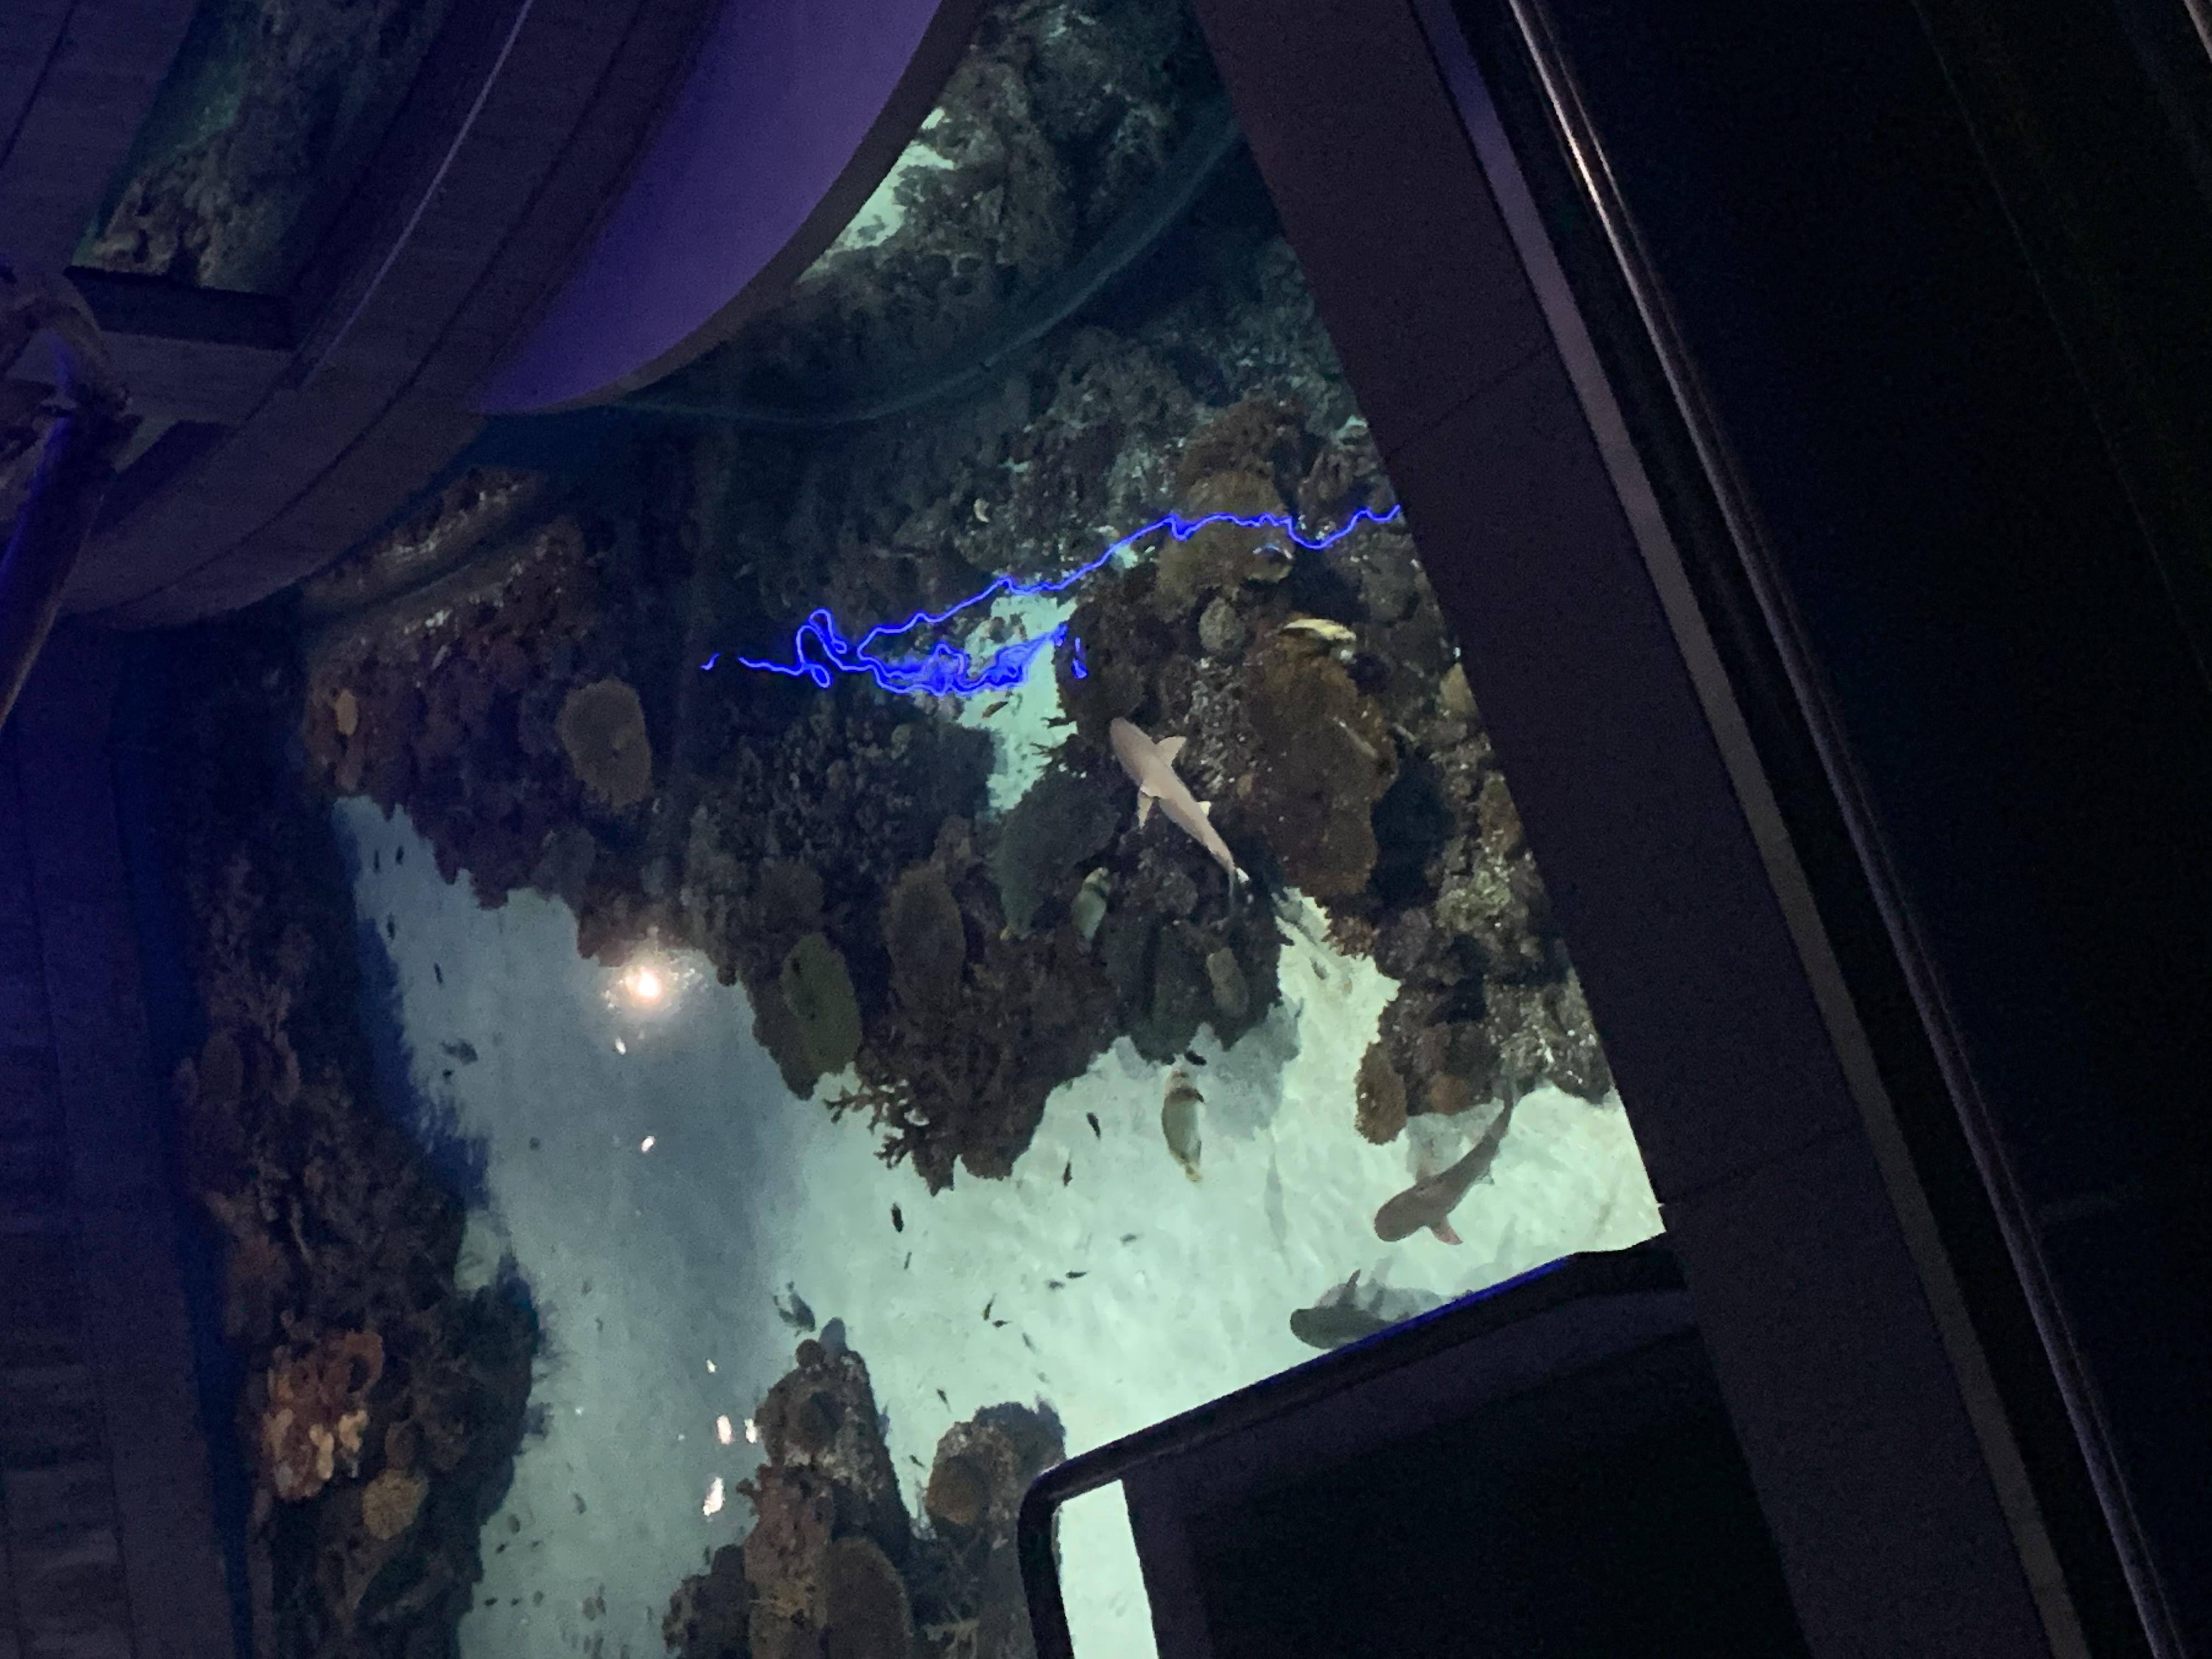fish: (1160, 1061, 1202, 1178)
shark: (1103, 716, 1251, 904), (1376, 1077, 1519, 1244), (1291, 1270, 1409, 1352)
